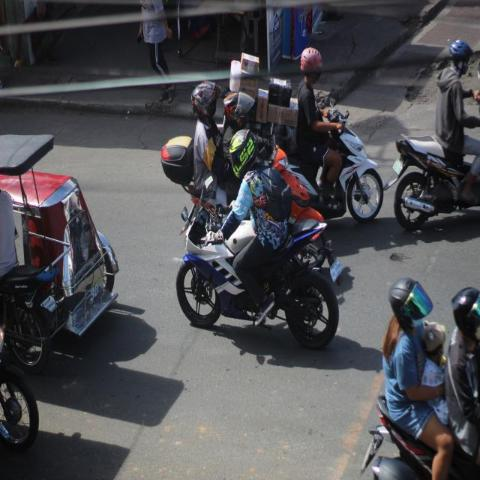motorcycle: (175, 127, 341, 352), (358, 272, 480, 480), (386, 41, 479, 229), (287, 45, 378, 222)
